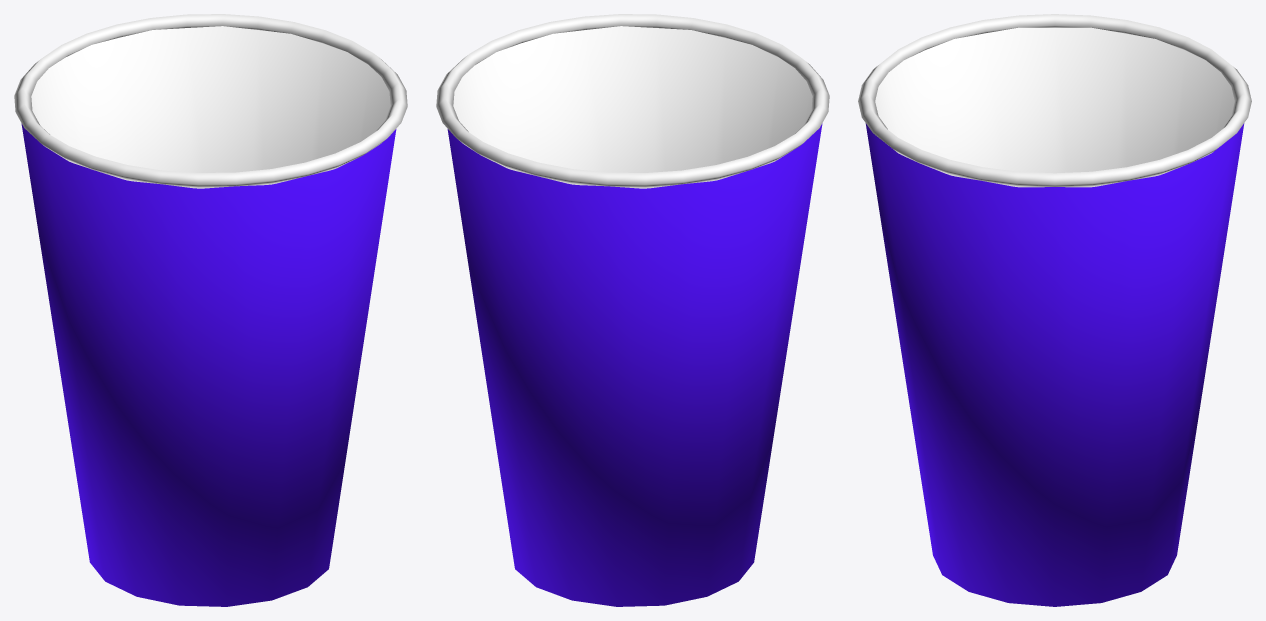
Rendered from blue_cup.glb.
3 views of the same model, side by side, from view 1: azimuth 30°, elevation 25°; view 2: azimuth 150°, elevation 25°; view 3: azimuth 270°, elevation 25° (orthographic).
Visible parts, largest first — view 1: Cup, Lip; view 2: Cup, Lip; view 3: Cup, Lip.
Boxes of the visible parts, x1,y1,x2,y2 form: Cup: (21,26,396,606); Lip: (14,14,407,188); Cup: (447,26,822,606); Lip: (436,14,829,188); Cup: (865,27,1244,606); Lip: (858,14,1251,187).
Bounding box in the file's own units: 0.092 × 0.119 × 0.092.
2 materials, 1 textured.
